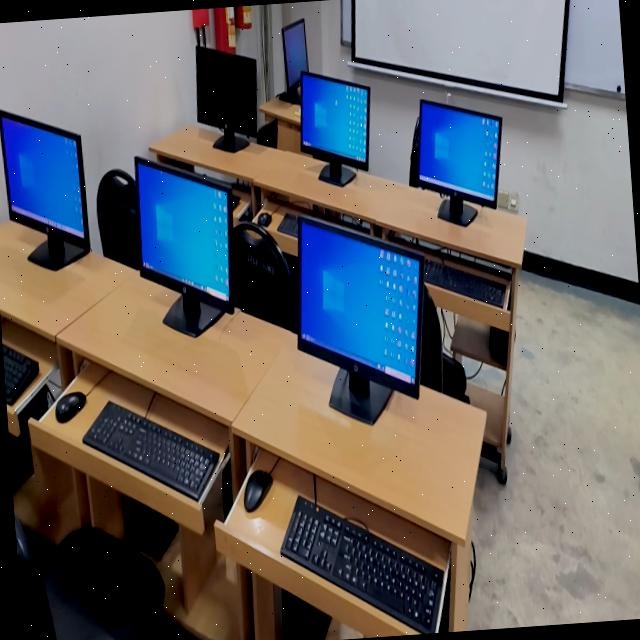Chair: (10, 474, 132, 640), (232, 216, 298, 330), (90, 166, 140, 269)
Fire Extinguisher: (213, 6, 235, 48), (233, 4, 254, 35)
Keyboard: (282, 484, 438, 636), (98, 402, 209, 500), (424, 253, 504, 308), (0, 311, 39, 396)
Monitor: (290, 204, 430, 414), (134, 146, 235, 332), (0, 106, 90, 264), (413, 90, 499, 216), (294, 63, 370, 183), (192, 37, 260, 141), (277, 20, 309, 100)
Mouse: (240, 461, 276, 516), (45, 388, 88, 427), (255, 206, 272, 227)
